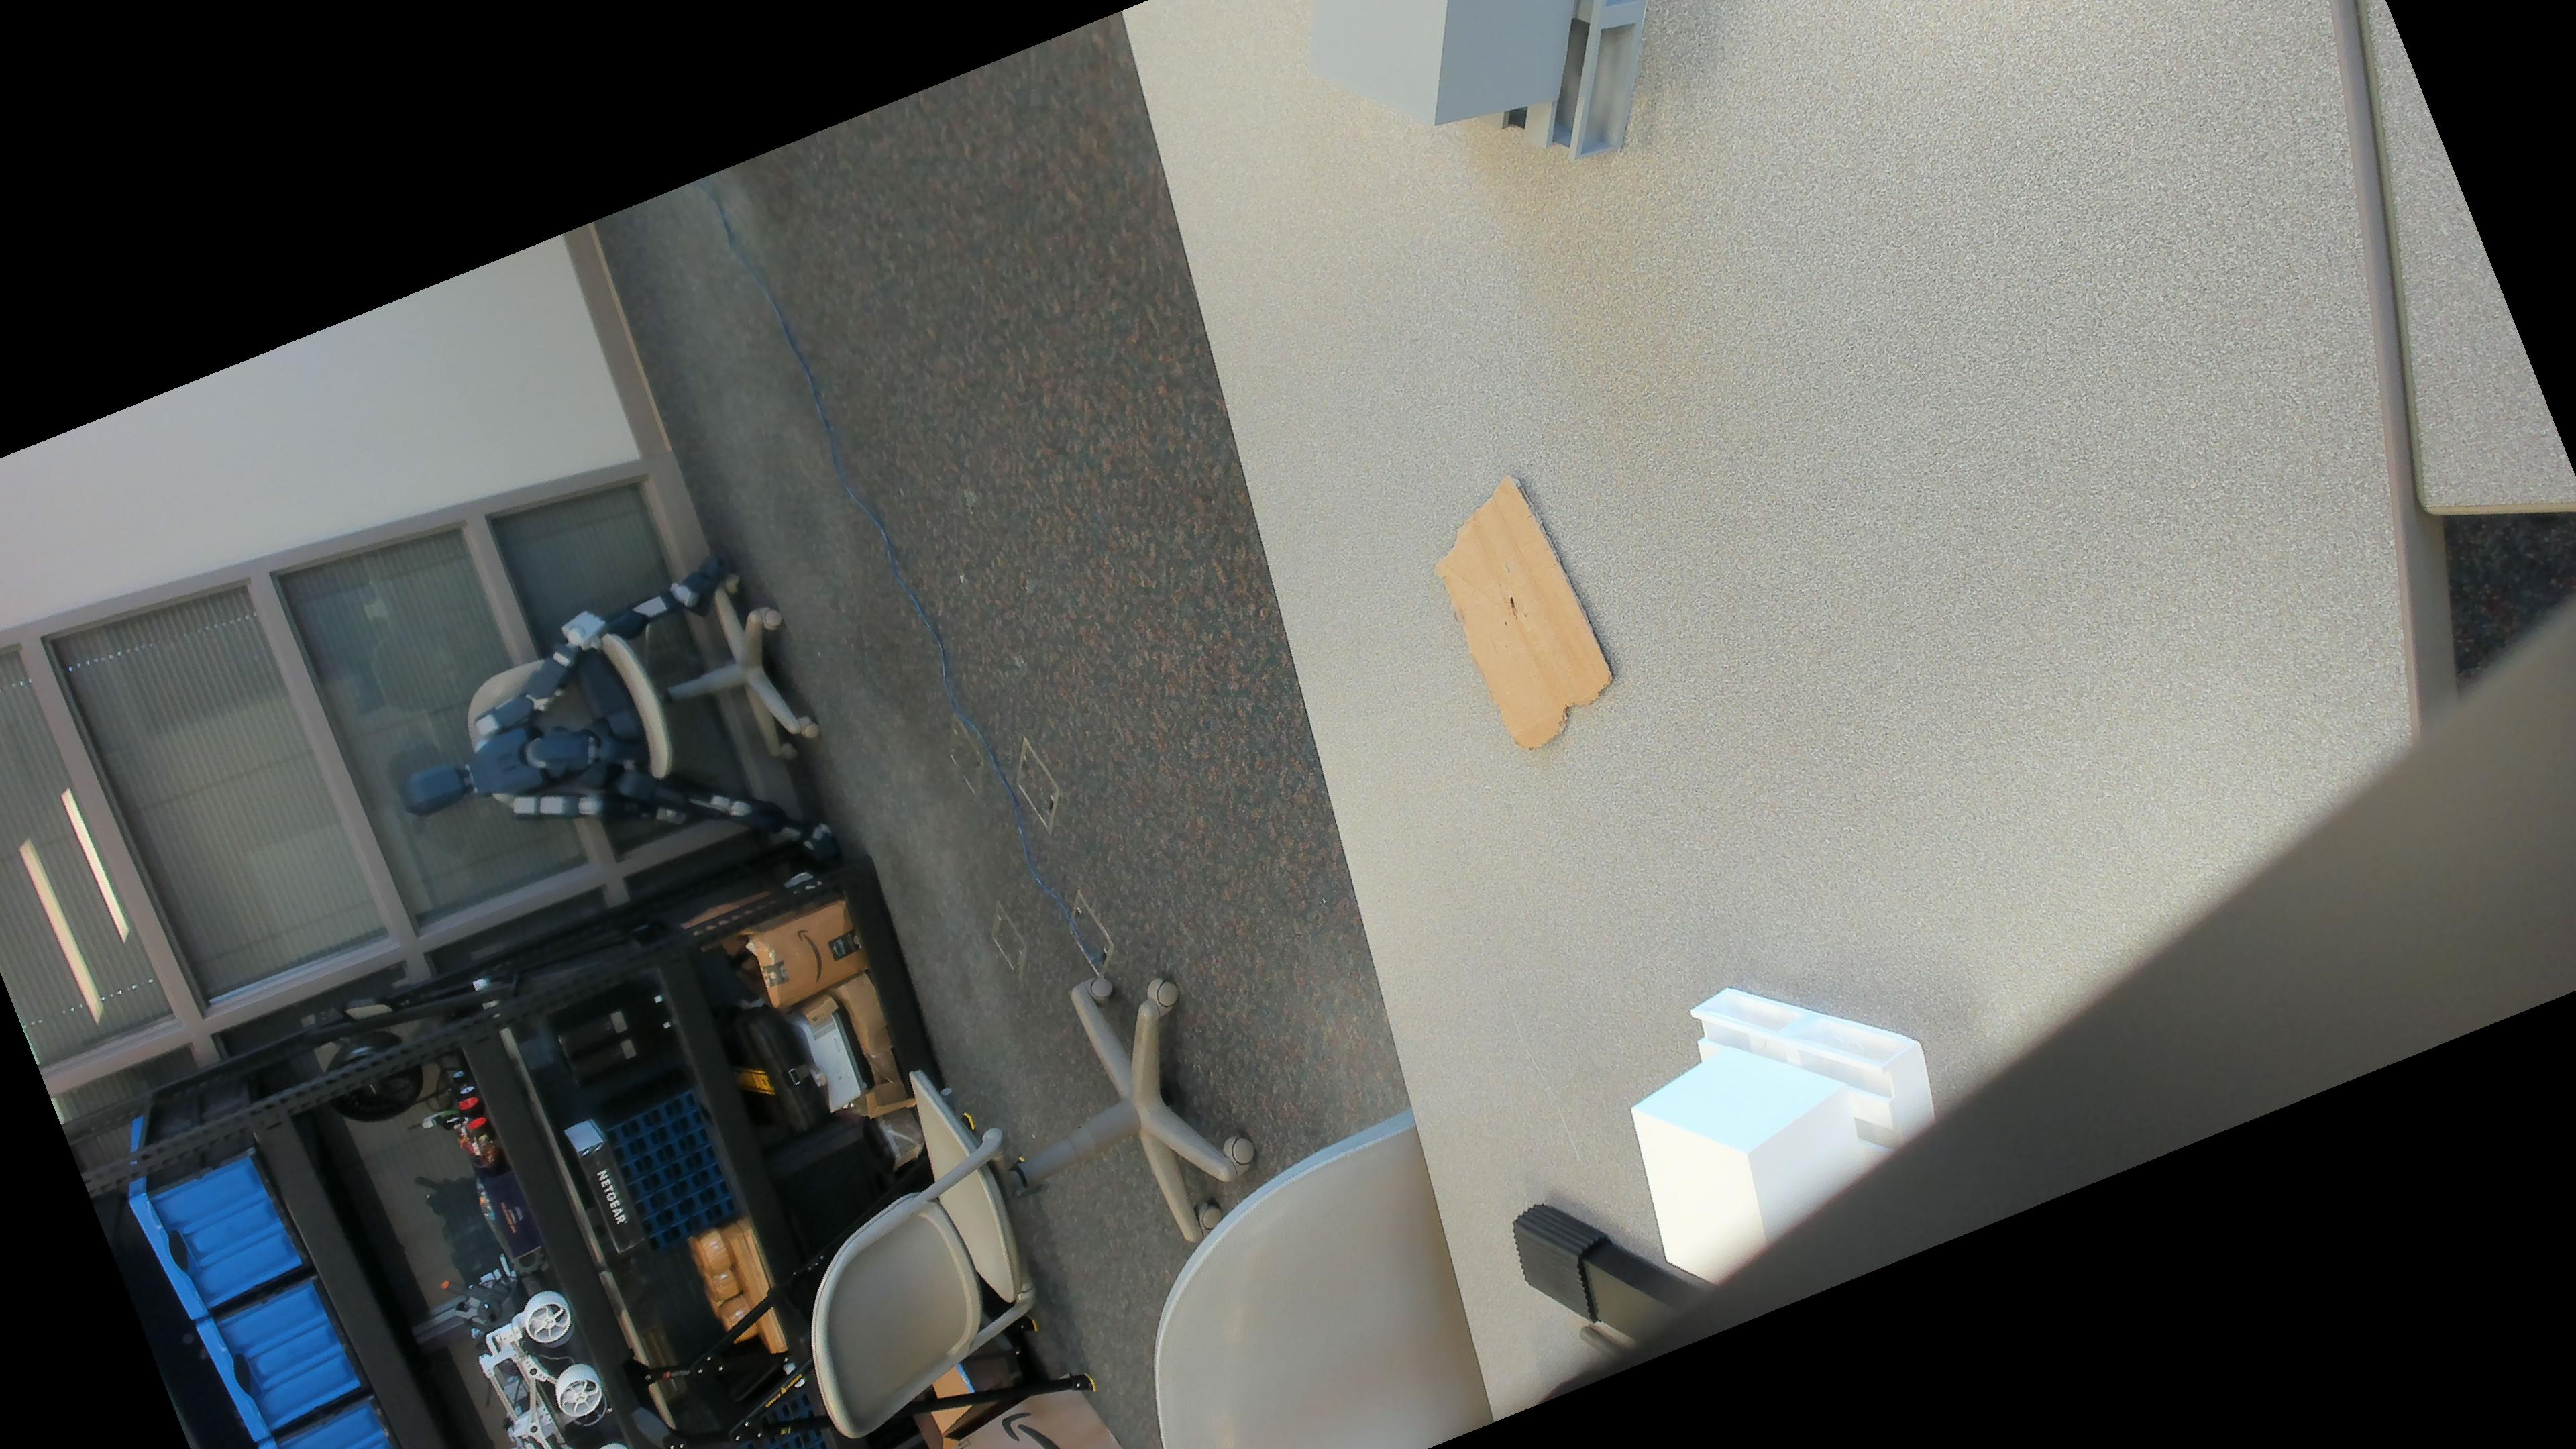grey pallet: (1297, 0, 1684, 168)
white pallet: (1615, 970, 1953, 1284)
